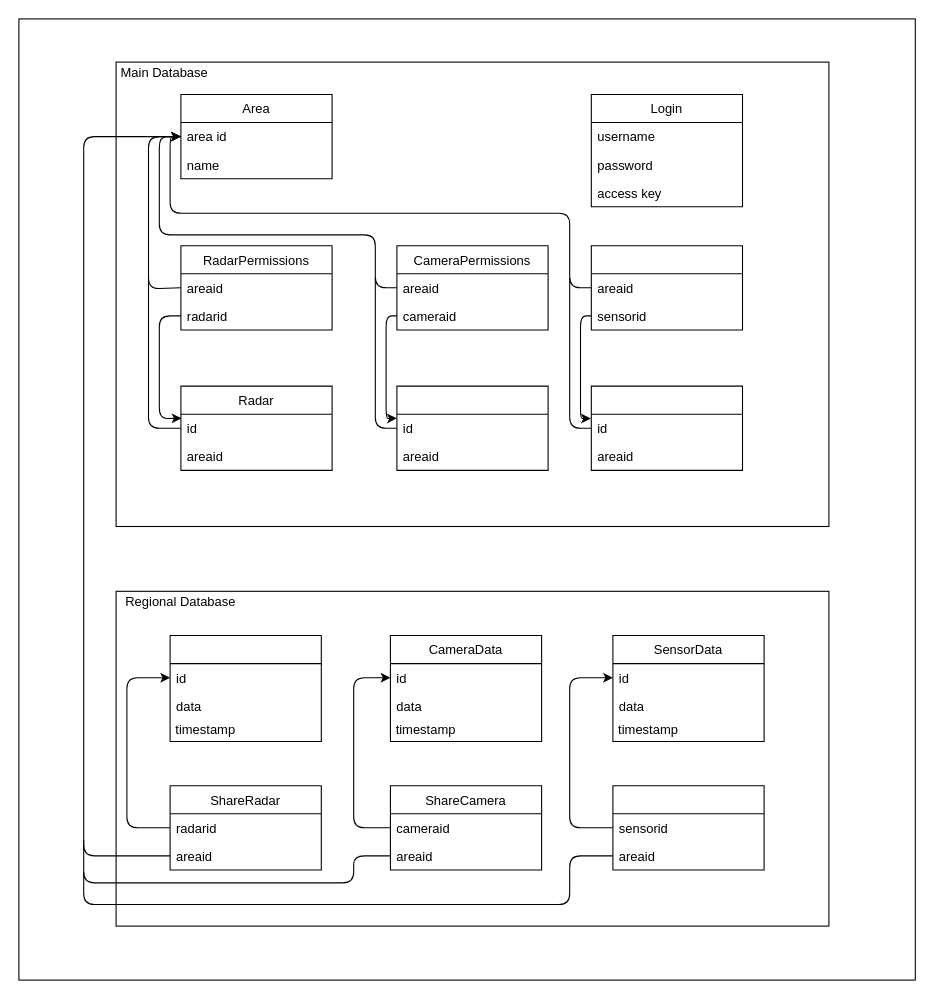
Image size: 934x999. Some labels were removed from this diagram. The box of each missing label's shape, as (x1, y1, x2, y2) in pixels:
Camera: (396, 385, 548, 470)
RadarData: (169, 634, 321, 741)
Sensor: (590, 385, 742, 470)
SensorPermissions: (590, 245, 742, 330)
ShareSensor: (612, 785, 764, 870)
